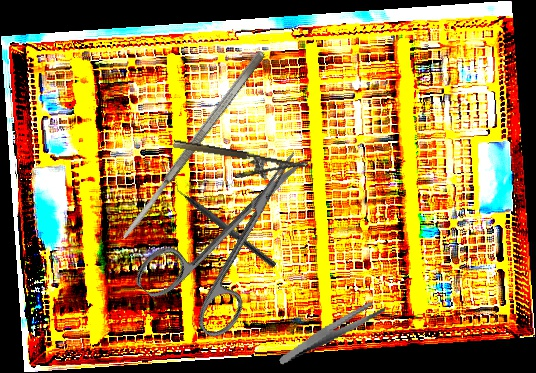Chopper: (166, 175, 283, 269)
Dressing Forceps: (270, 298, 393, 366)
Iris Scissors: (130, 124, 344, 349)
Needle Holder: (169, 138, 309, 190)
Spatula Surgical: (116, 48, 269, 244)
